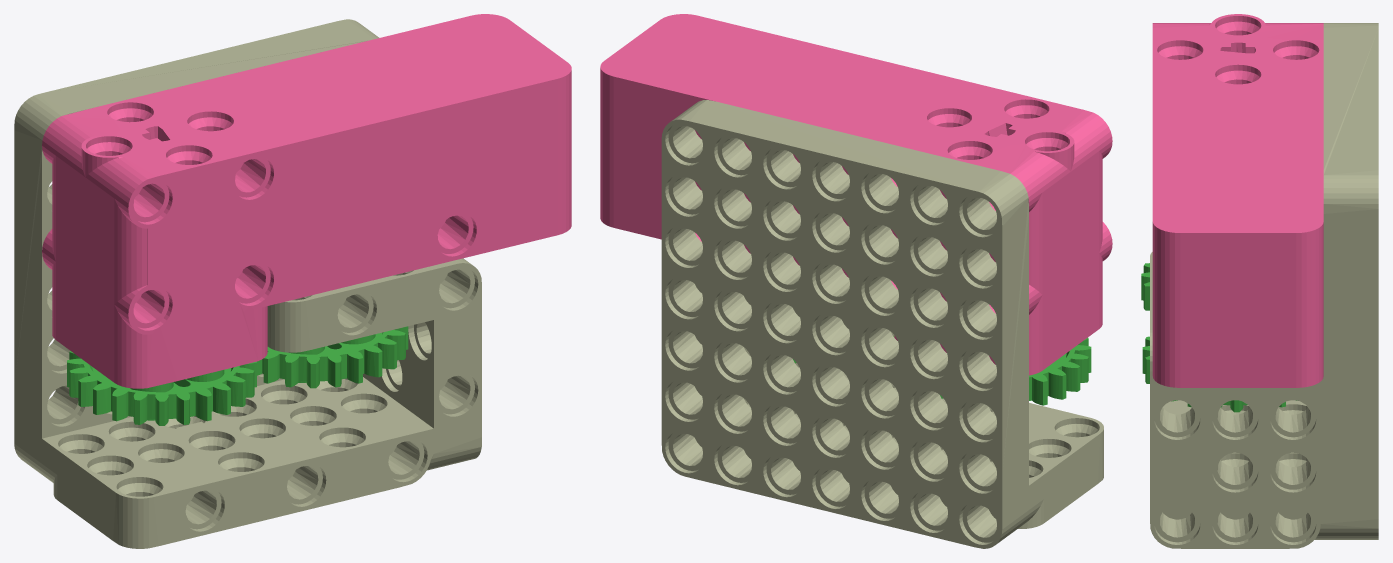
Rendered from tinker.obj.
3 views of the same model, side by side, from view 1: azimuth 30°, elevation 25°; view 2: azimuth 150°, elevation 25°; view 3: azimuth 270°, elevation 25° (orthographic). The views are drawn at different scales.
Visible parts, largest first — view 1: obj_1, obj_0, obj_2, obj_3; view 2: obj_0, obj_1, obj_2; view 3: obj_1, obj_0, obj_3, obj_2.
Boxes of the visible parts, x1,y1,x2,y2 form: obj_1: (42, 14, 571, 388); obj_0: (14, 19, 481, 548); obj_2: (67, 351, 256, 425); obj_3: (257, 326, 408, 388); obj_0: (661, 100, 1103, 548); obj_1: (600, 14, 1112, 375); obj_2: (940, 337, 1091, 405); obj_1: (1152, 14, 1323, 387); obj_0: (1150, 23, 1378, 548); obj_3: (1142, 336, 1296, 412); obj_2: (1141, 263, 1149, 310).
Size of the model in its own units: 72.7 by 55.6 by 32.79.
